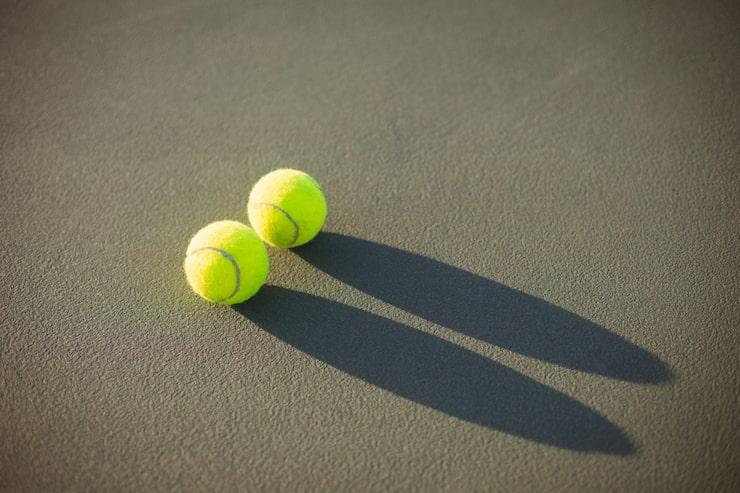ball_tennis: (180, 218, 272, 311), (248, 168, 332, 251)
